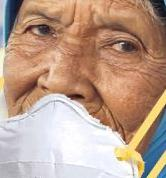mask_weared_incorrect: (1, 1, 166, 178)
